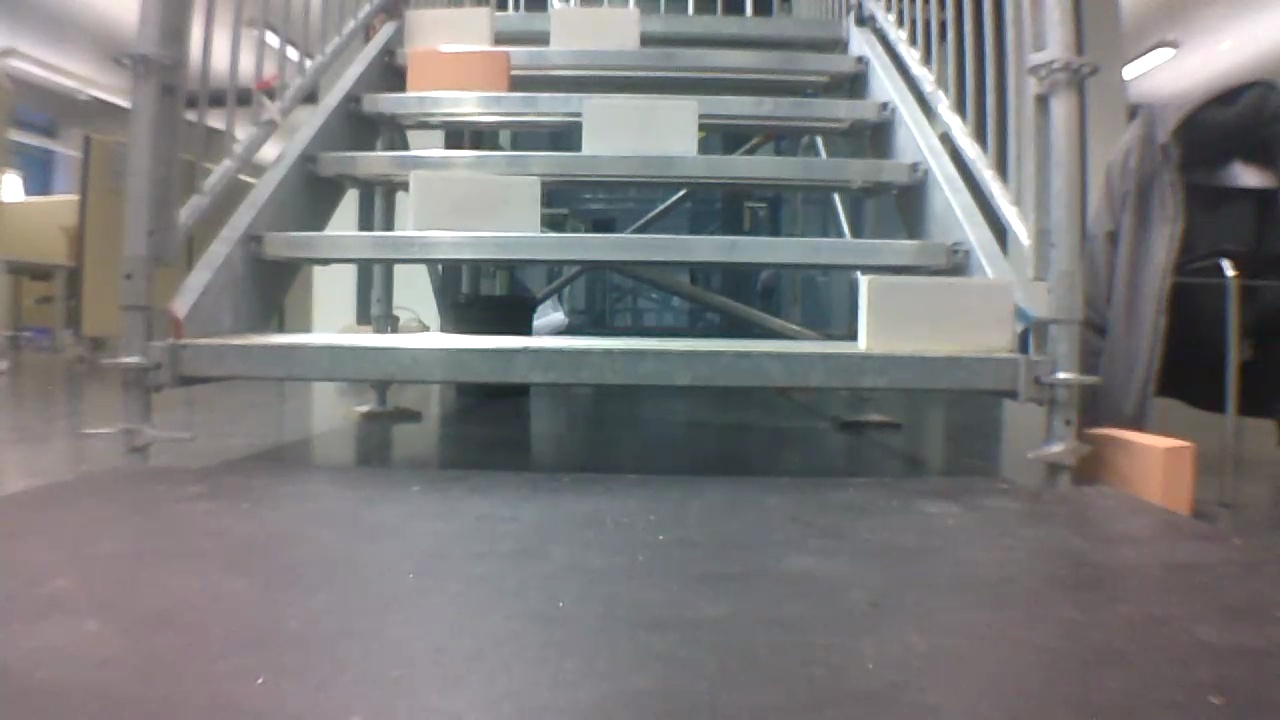brick: (859, 274, 1010, 350), (410, 174, 538, 232), (582, 101, 698, 154), (408, 50, 510, 92), (550, 10, 639, 48), (406, 9, 492, 43)
edge: (171, 343, 1015, 391), (250, 233, 975, 265), (310, 152, 927, 182), (352, 92, 899, 122), (388, 47, 869, 74), (406, 12, 848, 38)
stairs: (106, 3, 1086, 489)
steps: (161, 3, 1026, 409)
